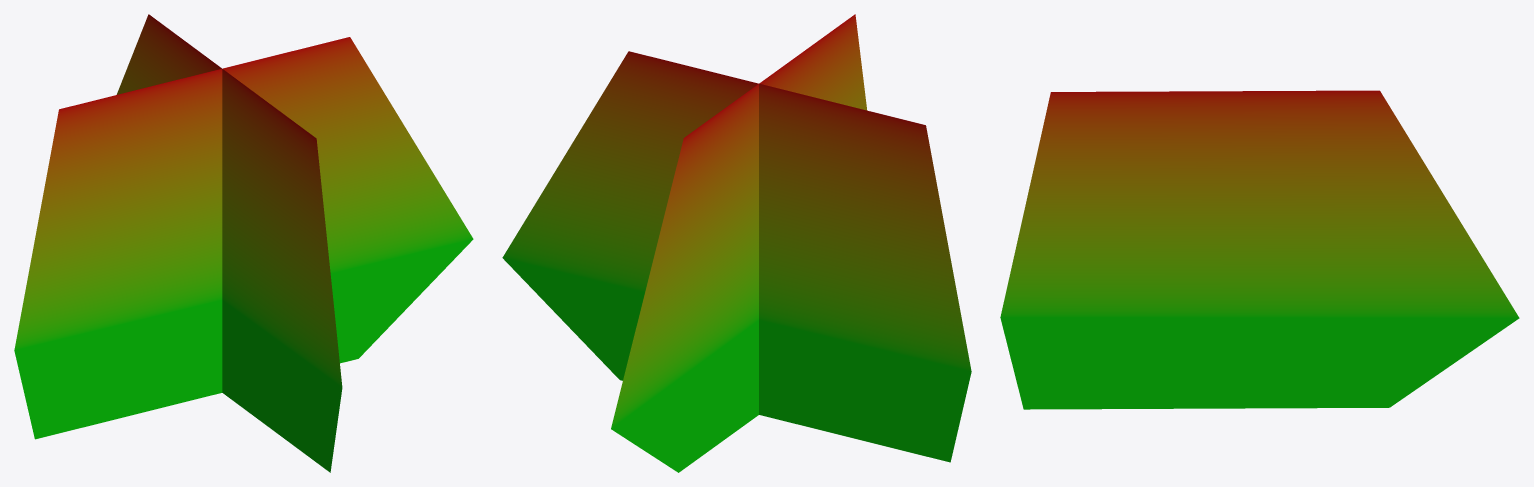
Rendered from Var5_LOD5.fbx.
The picture shows the model from 3 angles, left to right: view 1: azimuth 30°, elevation 25°; view 2: azimuth 150°, elevation 25°; view 3: azimuth 270°, elevation 25°; orthographic projection. The views are drawn at different scales.
Visible parts, largest first — view 1: _aca1_Var5_LOD5; view 2: _aca1_Var5_LOD5; view 3: _aca1_Var5_LOD5.
Part boxes in pixels (<box>): _aca1_Var5_LOD5: <box>14,14,473,472</box>; _aca1_Var5_LOD5: <box>502,14,971,472</box>; _aca1_Var5_LOD5: <box>1000,90,1519,409</box>.
Size of the model in its own units: 147 by 99.43 by 147.
